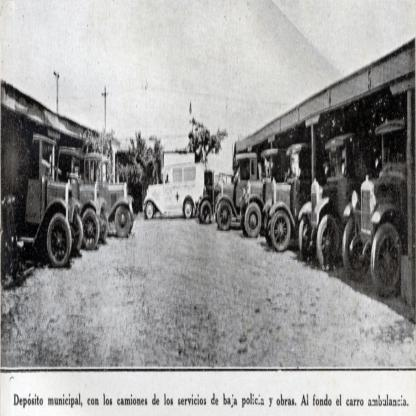Ambulance - v1 Ambulance last generate: (143, 151, 205, 218)
